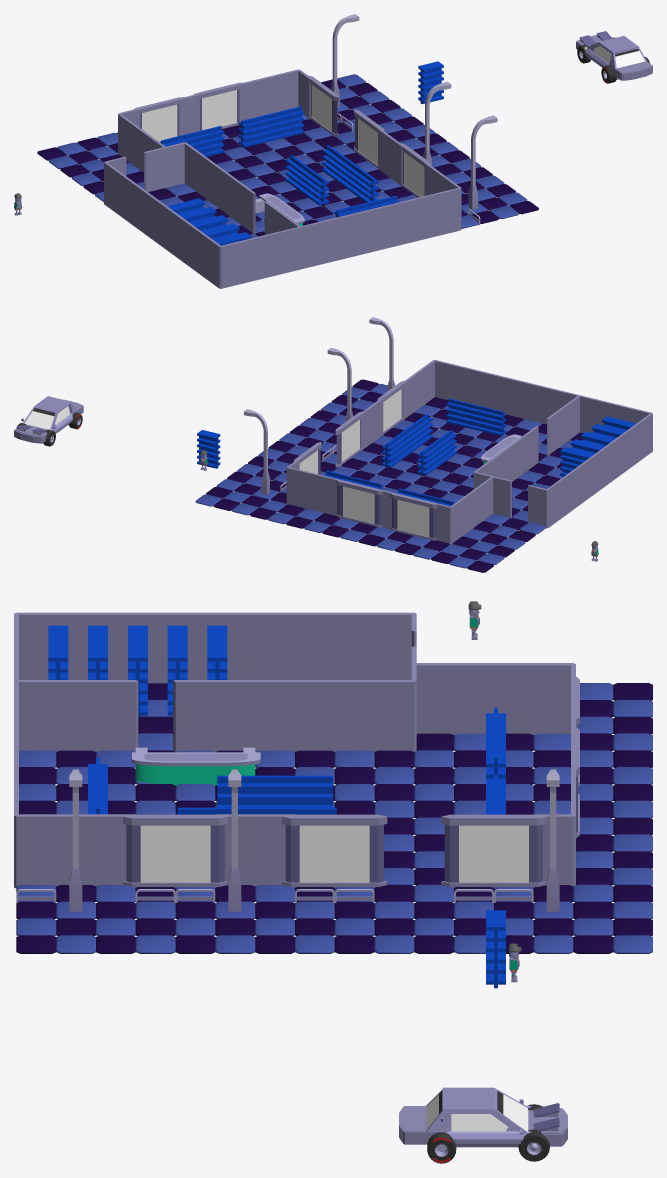
Rendered from proto_scene_pierre.glb.
3 renders of one model, top to bottom at view 1: azimuth 30°, elevation 25°; view 2: azimuth 150°, elevation 25°; view 3: azimuth 270°, elevation 25°, orthographic. The views are drawn at different scales.
Visible parts, largest first — view 1: wall (×29), wall_corner (×7), wall_glassEdges% (×5), lightpost_round% (×3), body_topStandard, body_topWindshield, hut_halfRoof; view 2: wall (×30), wall_glassEdges% (×5), wall_corner (×6), lightpost_round% (×3), body_topStandard, hut_halfRoof; view 3: wall (×22), wall_glassEdges% (×3), wall_corner (×7), lightpost_round% (×3), body_topStandard, rail_back, hut_halfRoof, hut_slantRoofB%.
Boxes of the visible parts, x1=… form: wall (×29): x1=115, y1=74, x2=440, y2=283; wall_corner (×7): x1=104, y1=69, x2=461, y2=288; wall_glassEdges% (×5): x1=133, y1=75, x2=430, y2=197; lightpost_round% (×3): x1=330, y1=14, x2=497, y2=209; body_topStandard: x1=587, y1=36, x2=638, y2=65; body_topWindshield: x1=609, y1=45, x2=646, y2=68; hut_halfRoof: x1=259, y1=193, x2=304, y2=223; wall (×30): x1=305, y1=364, x2=642, y2=536; wall_glassEdges% (×5): x1=294, y1=380, x2=437, y2=540; wall_corner (×6): x1=286, y1=360, x2=652, y2=544; lightpost_round% (×3): x1=244, y1=317, x2=395, y2=494; body_topStandard: x1=23, y1=396, x2=73, y2=429; hut_halfRoof: x1=481, y1=434, x2=521, y2=462; wall (×22): x1=15, y1=612, x2=533, y2=886; wall_glassEdges% (×3): x1=123, y1=814, x2=546, y2=887; wall_corner (×7): x1=14, y1=612, x2=575, y2=888; lightpost_round% (×3): x1=69, y1=769, x2=559, y2=911; body_topStandard: x1=442, y1=1087, x2=528, y2=1133; rail_back: x1=135, y1=747, x2=255, y2=785; hut_halfRoof: x1=132, y1=752, x2=260, y2=766; hut_slantRoofB%: x1=447, y1=1131, x2=531, y2=1147.
Bounding box in the file's own units: 31.17 × 4.64 × 16.06.
